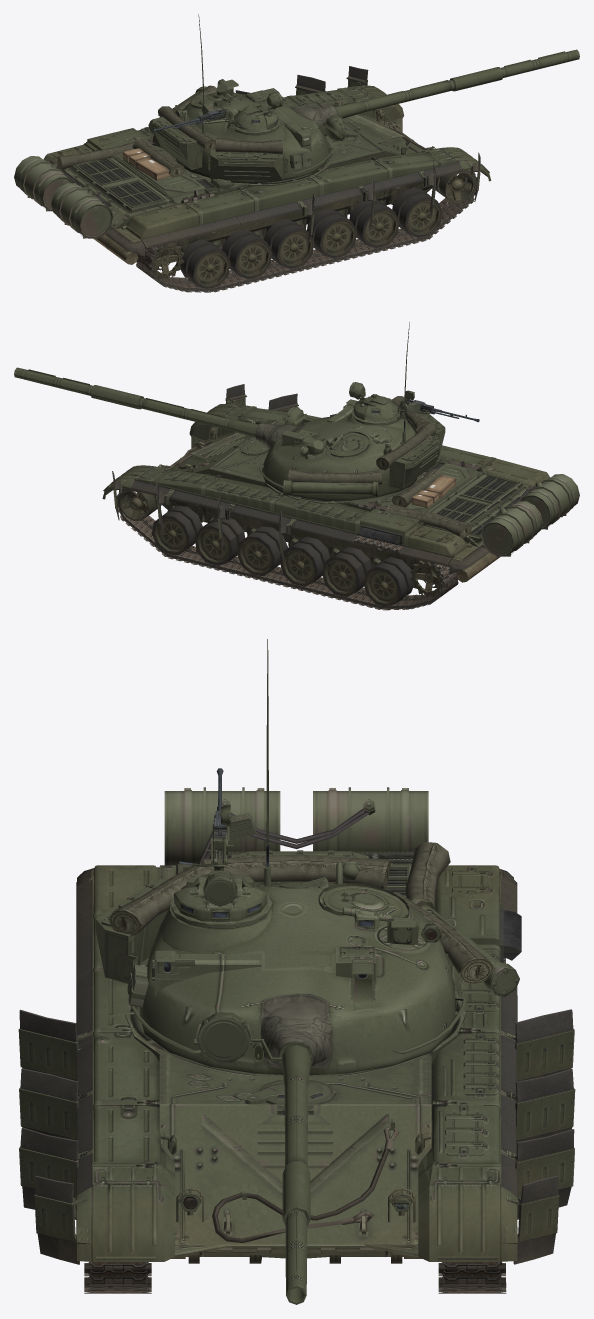
Rendered from tank.glb.
3 renders of one model, top to bottom at view 1: azimuth 30°, elevation 25°; view 2: azimuth 150°, elevation 25°; view 3: azimuth 270°, elevation 25°, orthographic. The views are drawn at different scales.
Visible parts, largest first — view 1: guard, turret, hull, hullb, gear4, track03, weapon, tire06, tire05, tire04, tire01, tire03 (+23 smaller); view 2: guard, turret, hull, gear4, track2, hullb, weapon, tire.005, gear8, tire.004, gear11, tire.003 (+22 smaller); view 3: guard, turret, hull, gear4, weapon, gear10, skirt6, skirt8, skirt5, mount2, skirt7, skirt3 (+15 smaller).
Boxes of the visible parts, left/top/right/bottom form: guard: left=44, top=85, right=491, bottom=250; turret: left=148, top=79, right=345, bottom=183; hull: left=63, top=101, right=435, bottom=262; hullb: left=61, top=146, right=222, bottom=249; gear4: left=14, top=156, right=112, bottom=238; track03: left=136, top=162, right=476, bottom=292; weapon: left=335, top=49, right=579, bottom=118; tire06: left=180, top=239, right=230, bottom=288; tire05: left=222, top=229, right=272, bottom=279; tire04: left=264, top=219, right=314, bottom=268; tire01: left=392, top=187, right=442, bottom=237; tire03: left=307, top=208, right=357, bottom=258; guard: left=102, top=403, right=549, bottom=569; turret: left=258, top=407, right=445, bottom=500; hull: left=158, top=418, right=533, bottom=580; gear4: left=481, top=474, right=579, bottom=556; track2: left=117, top=480, right=458, bottom=610; hullb: left=371, top=460, right=533, bottom=567; weapon: left=14, top=367, right=258, bottom=437; tire.005: left=363, top=557, right=413, bottom=606; gear8: left=386, top=504, right=472, bottom=538; tire.004: left=322, top=546, right=372, bottom=596; gear11: left=287, top=469, right=382, bottom=484; tire.003: left=280, top=536, right=330, bottom=586; guard: left=76, top=865, right=517, bottom=1261; turret: left=95, top=850, right=519, bottom=1075; hull: left=125, top=866, right=466, bottom=1263; gear4: left=164, top=787, right=428, bottom=865; weapon: left=279, top=1042, right=314, bottom=1304; gear10: left=201, top=854, right=390, bottom=889; skirt6: left=514, top=1068, right=575, bottom=1150; skirt8: left=514, top=1009, right=574, bottom=1100; skirt5: left=19, top=1068, right=79, bottom=1140; mount2: left=170, top=872, right=272, bottom=925; skirt7: left=18, top=1009, right=79, bottom=1080; skirt3: left=19, top=1127, right=79, bottom=1219.
Bounding box in the file's own units: 10.02 × 4.28 × 4.54.
15 materials, 15 textured.
